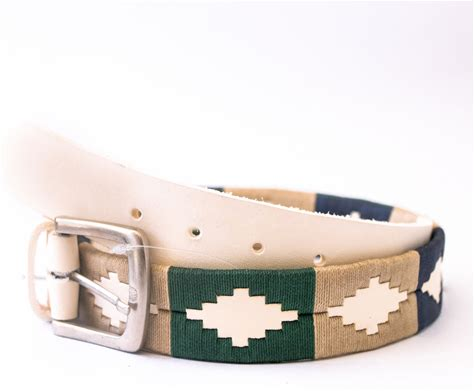cuero: (14, 111, 447, 362)
